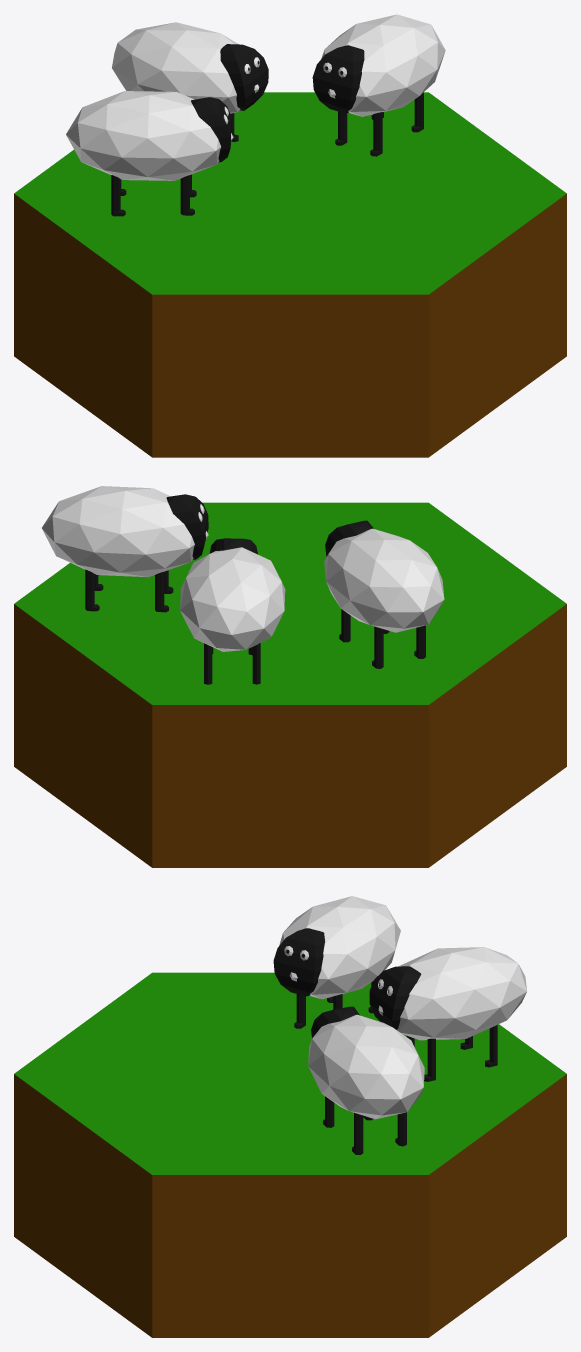
The model's file is altigen_blok_hayvan.fbx.
3 views of the same model, one above another, from view 1: azimuth 30°, elevation 25°; view 2: azimuth 150°, elevation 25°; view 3: azimuth 270°, elevation 25° (orthographic).
Visible parts, largest first — view 1: ground; view 2: ground; view 3: ground.
Part boxes in pixels (x1,y1,x2,y2): ground: (14, 14, 566, 457); ground: (14, 486, 566, 867); ground: (14, 896, 566, 1337).
Size of the model in its own units: 1.73 by 1.09 by 2.
